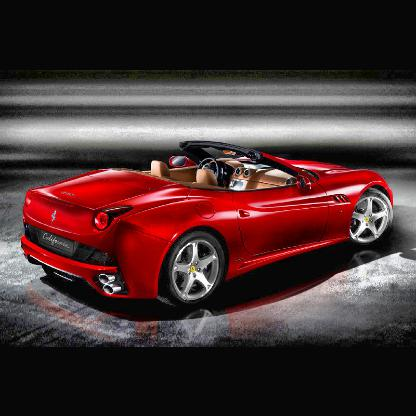Ferrari California Convertible 2012: (22, 140, 395, 311)
